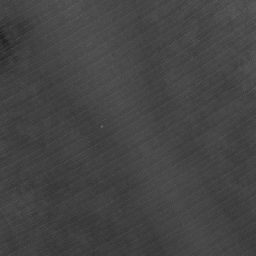Target: (98, 124, 105, 130)
